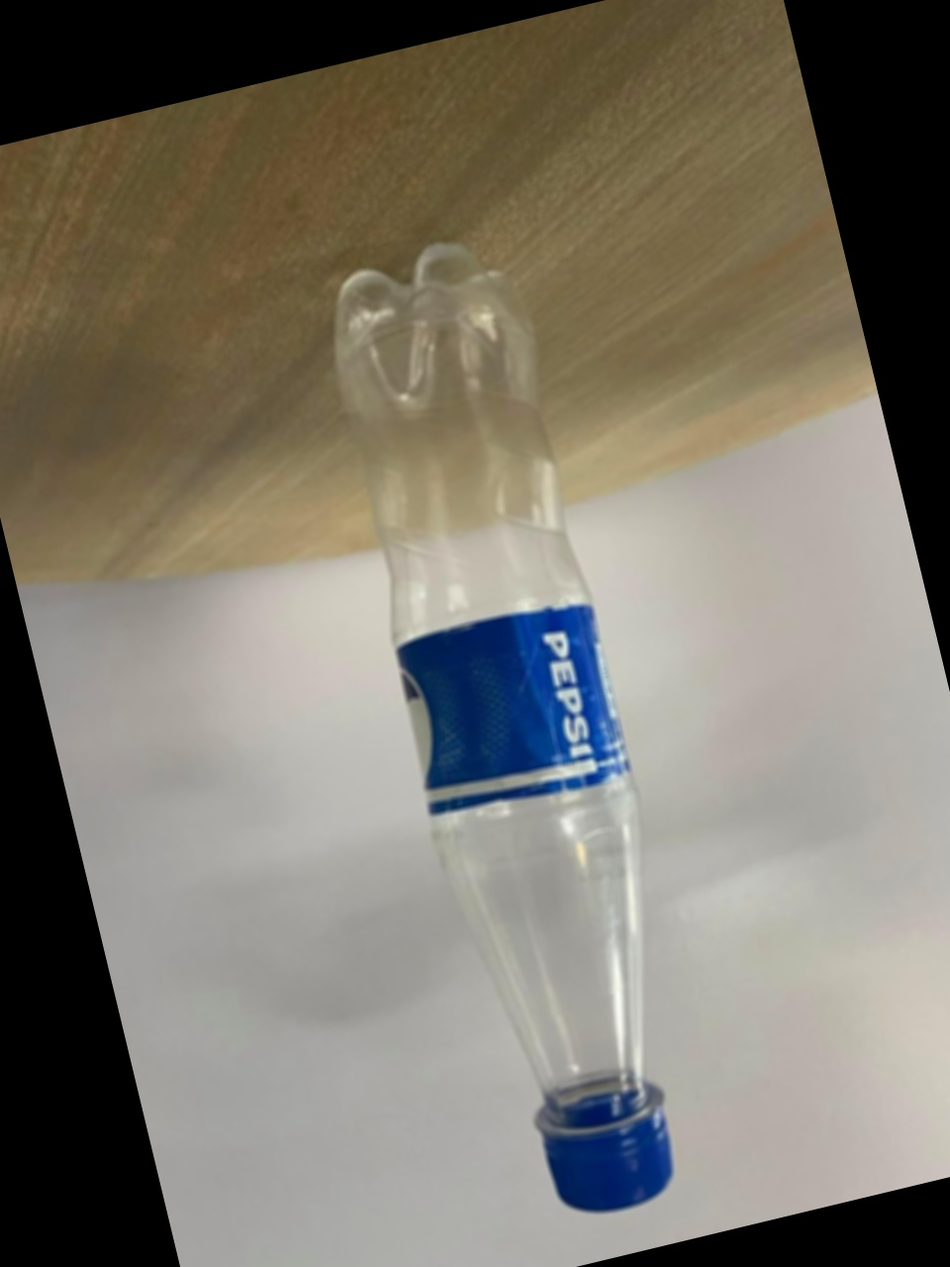Pepsi Bottle: (281, 193, 744, 1254), (289, 214, 740, 1247)
